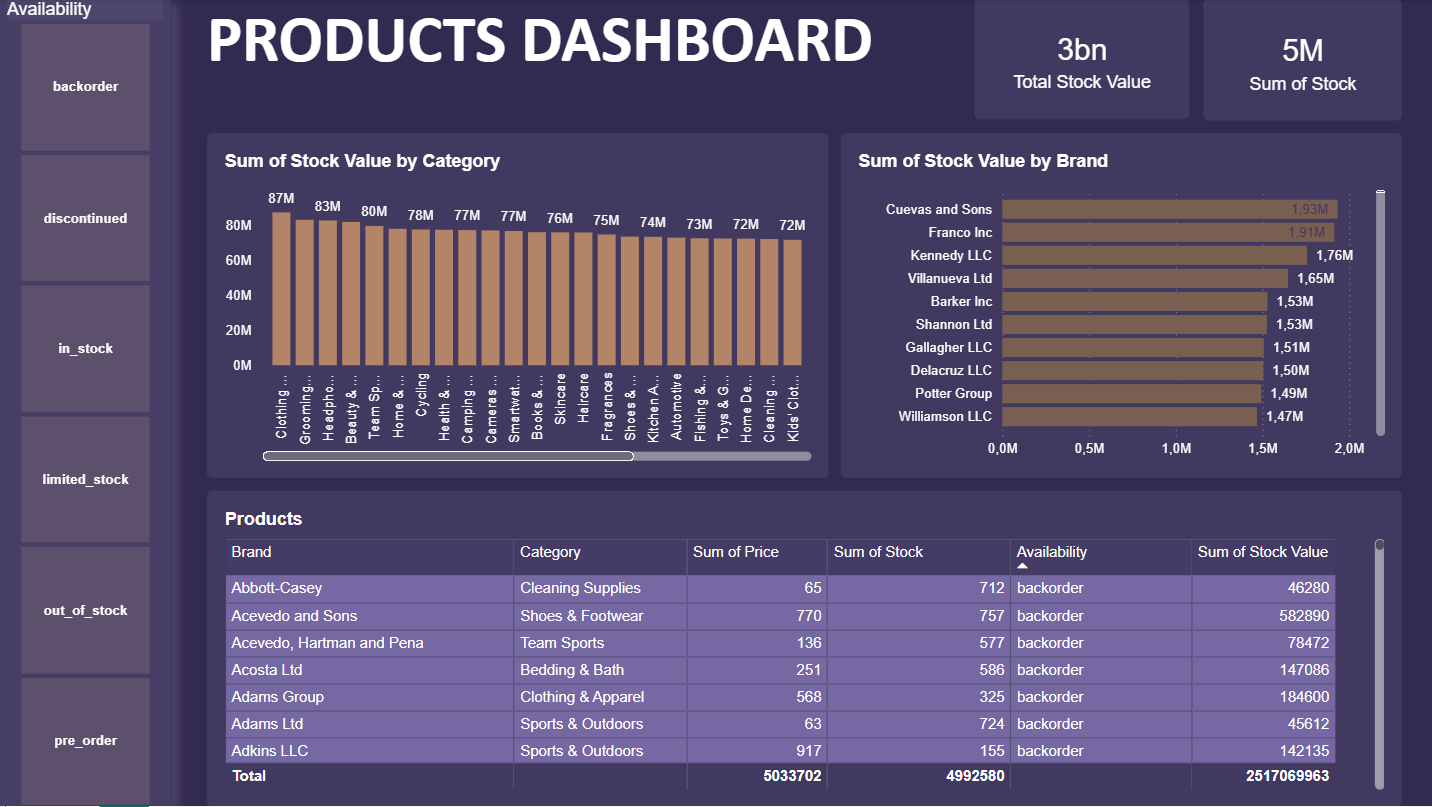

What the dashboard file says about the page in this screenshot:
{"tool":"powerbi","page":{"name":"Page 1","canvas":[1280,720],"ordinal":0},"visuals":[{"type":"card","fields":{"Values":["Sum(products-10000.Stock)"]},"box":[1074.2,1.1,177,108],"z":1},{"type":"card","fields":{"Values":["products-10000.Measure"]},"box":[870.5,0,191.5,108],"z":2},{"type":"slicer","fields":{"Values":["products-10000.Availability"]},"box":[0,0,155.8,720.2],"z":4},{"type":"columnChart","fields":{"Category":["products-10000.Category"],"Y":["Sum(products-10000.Stock Value)"]},"box":[187,120.2,553.2,307.2],"z":5},{"type":"barChart","fields":{"Category":["products-10000.Brand"],"Y":["Sum(products-10000.Stock Value)"]},"box":[751.4,120.2,499.8,307.2],"z":6},{"type":"tableEx","title":"Products","fields":{"Values":["products-10000.Brand","products-10000.Category","Sum(products-10000.Price)","Sum(products-10000.Stock)","products-10000.Availability","Sum(products-10000.Stock Value)"]},"box":[187,438.6,1064.2,281.6],"z":7},{"type":"textbox","box":[187,0,666.8,108],"z":9}]}

Visuals, with their boxes in screenshot pixels (x1, y1, x2, y2), scaled from the page's 1280x720 canvas onto the 1432x807 screenshot:
card - Sum(products-10000.Stock): 1202 1 1400 122
card - products-10000.Measure: 974 0 1188 121
slicer - products-10000.Availability: 0 0 174 806
columnChart - products-10000.Category x Sum(products-10000.Stock Value): 209 135 828 479
barChart - products-10000.Brand x Sum(products-10000.Stock Value): 841 135 1400 479
"Products" tableEx: 209 492 1400 806
textbox: 209 0 955 121
